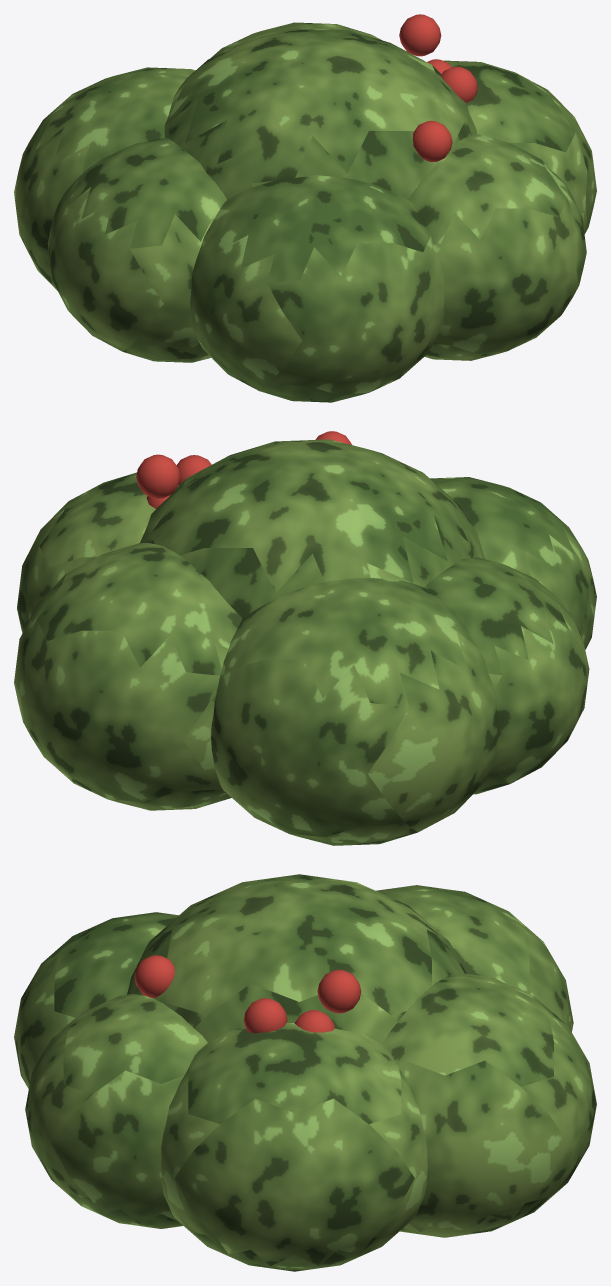
File: bush1.glb
The picture shows the model from 3 angles, top to bottom: view 1: azimuth 30°, elevation 25°; view 2: azimuth 150°, elevation 25°; view 3: azimuth 270°, elevation 25°; orthographic projection. The views are drawn at different scales.
Visible parts, largest first — view 1: bush1; view 2: bush1; view 3: bush1.
Boxes of the visible parts, <box> form: bush1: <box>14,14,596,402</box>; bush1: <box>14,431,596,845</box>; bush1: <box>14,874,596,1271</box>.
Bounding box in the file's own units: 1.12 × 0.5996 × 1.06.
Materials: 2 (1 with a texture image).
